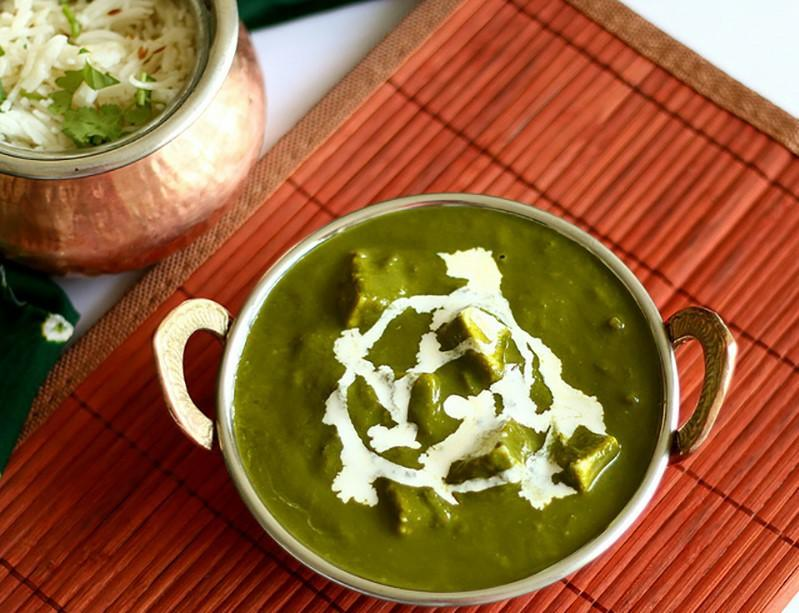PalakPaneer: (233, 206, 661, 590)
